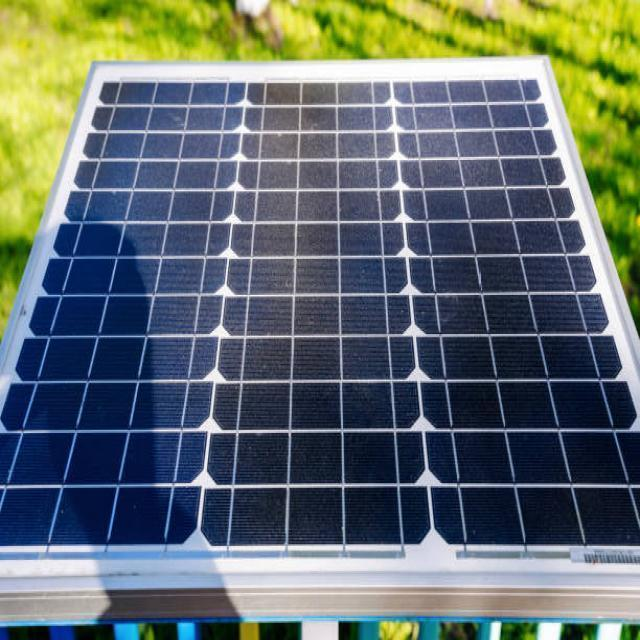Normal Solar Panel: (0, 57, 640, 592)
